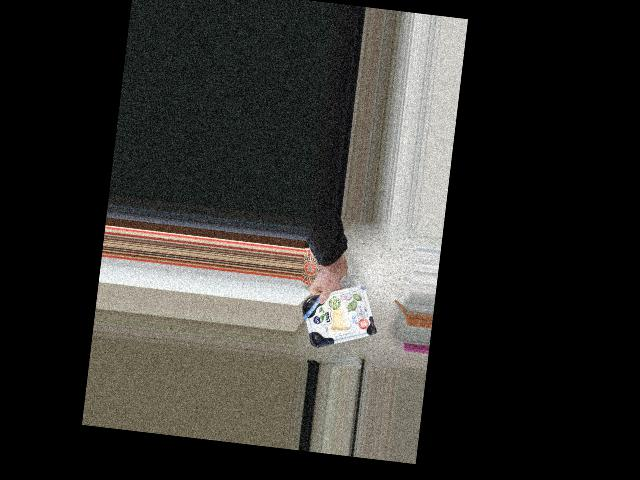cheese: (306, 287, 373, 344)
